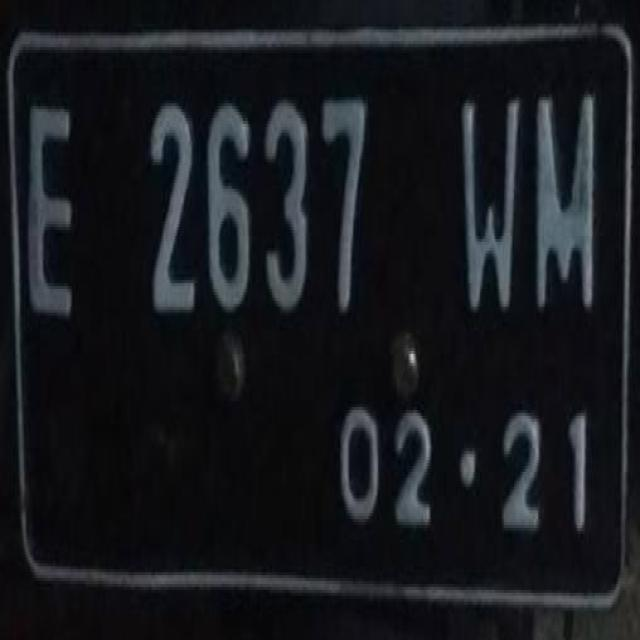2: (141, 90, 200, 320)
3: (258, 90, 315, 320)
6: (199, 100, 258, 324)
7: (313, 82, 374, 316)
E: (23, 76, 80, 334)
M: (524, 75, 602, 317)
W: (454, 78, 526, 317)
